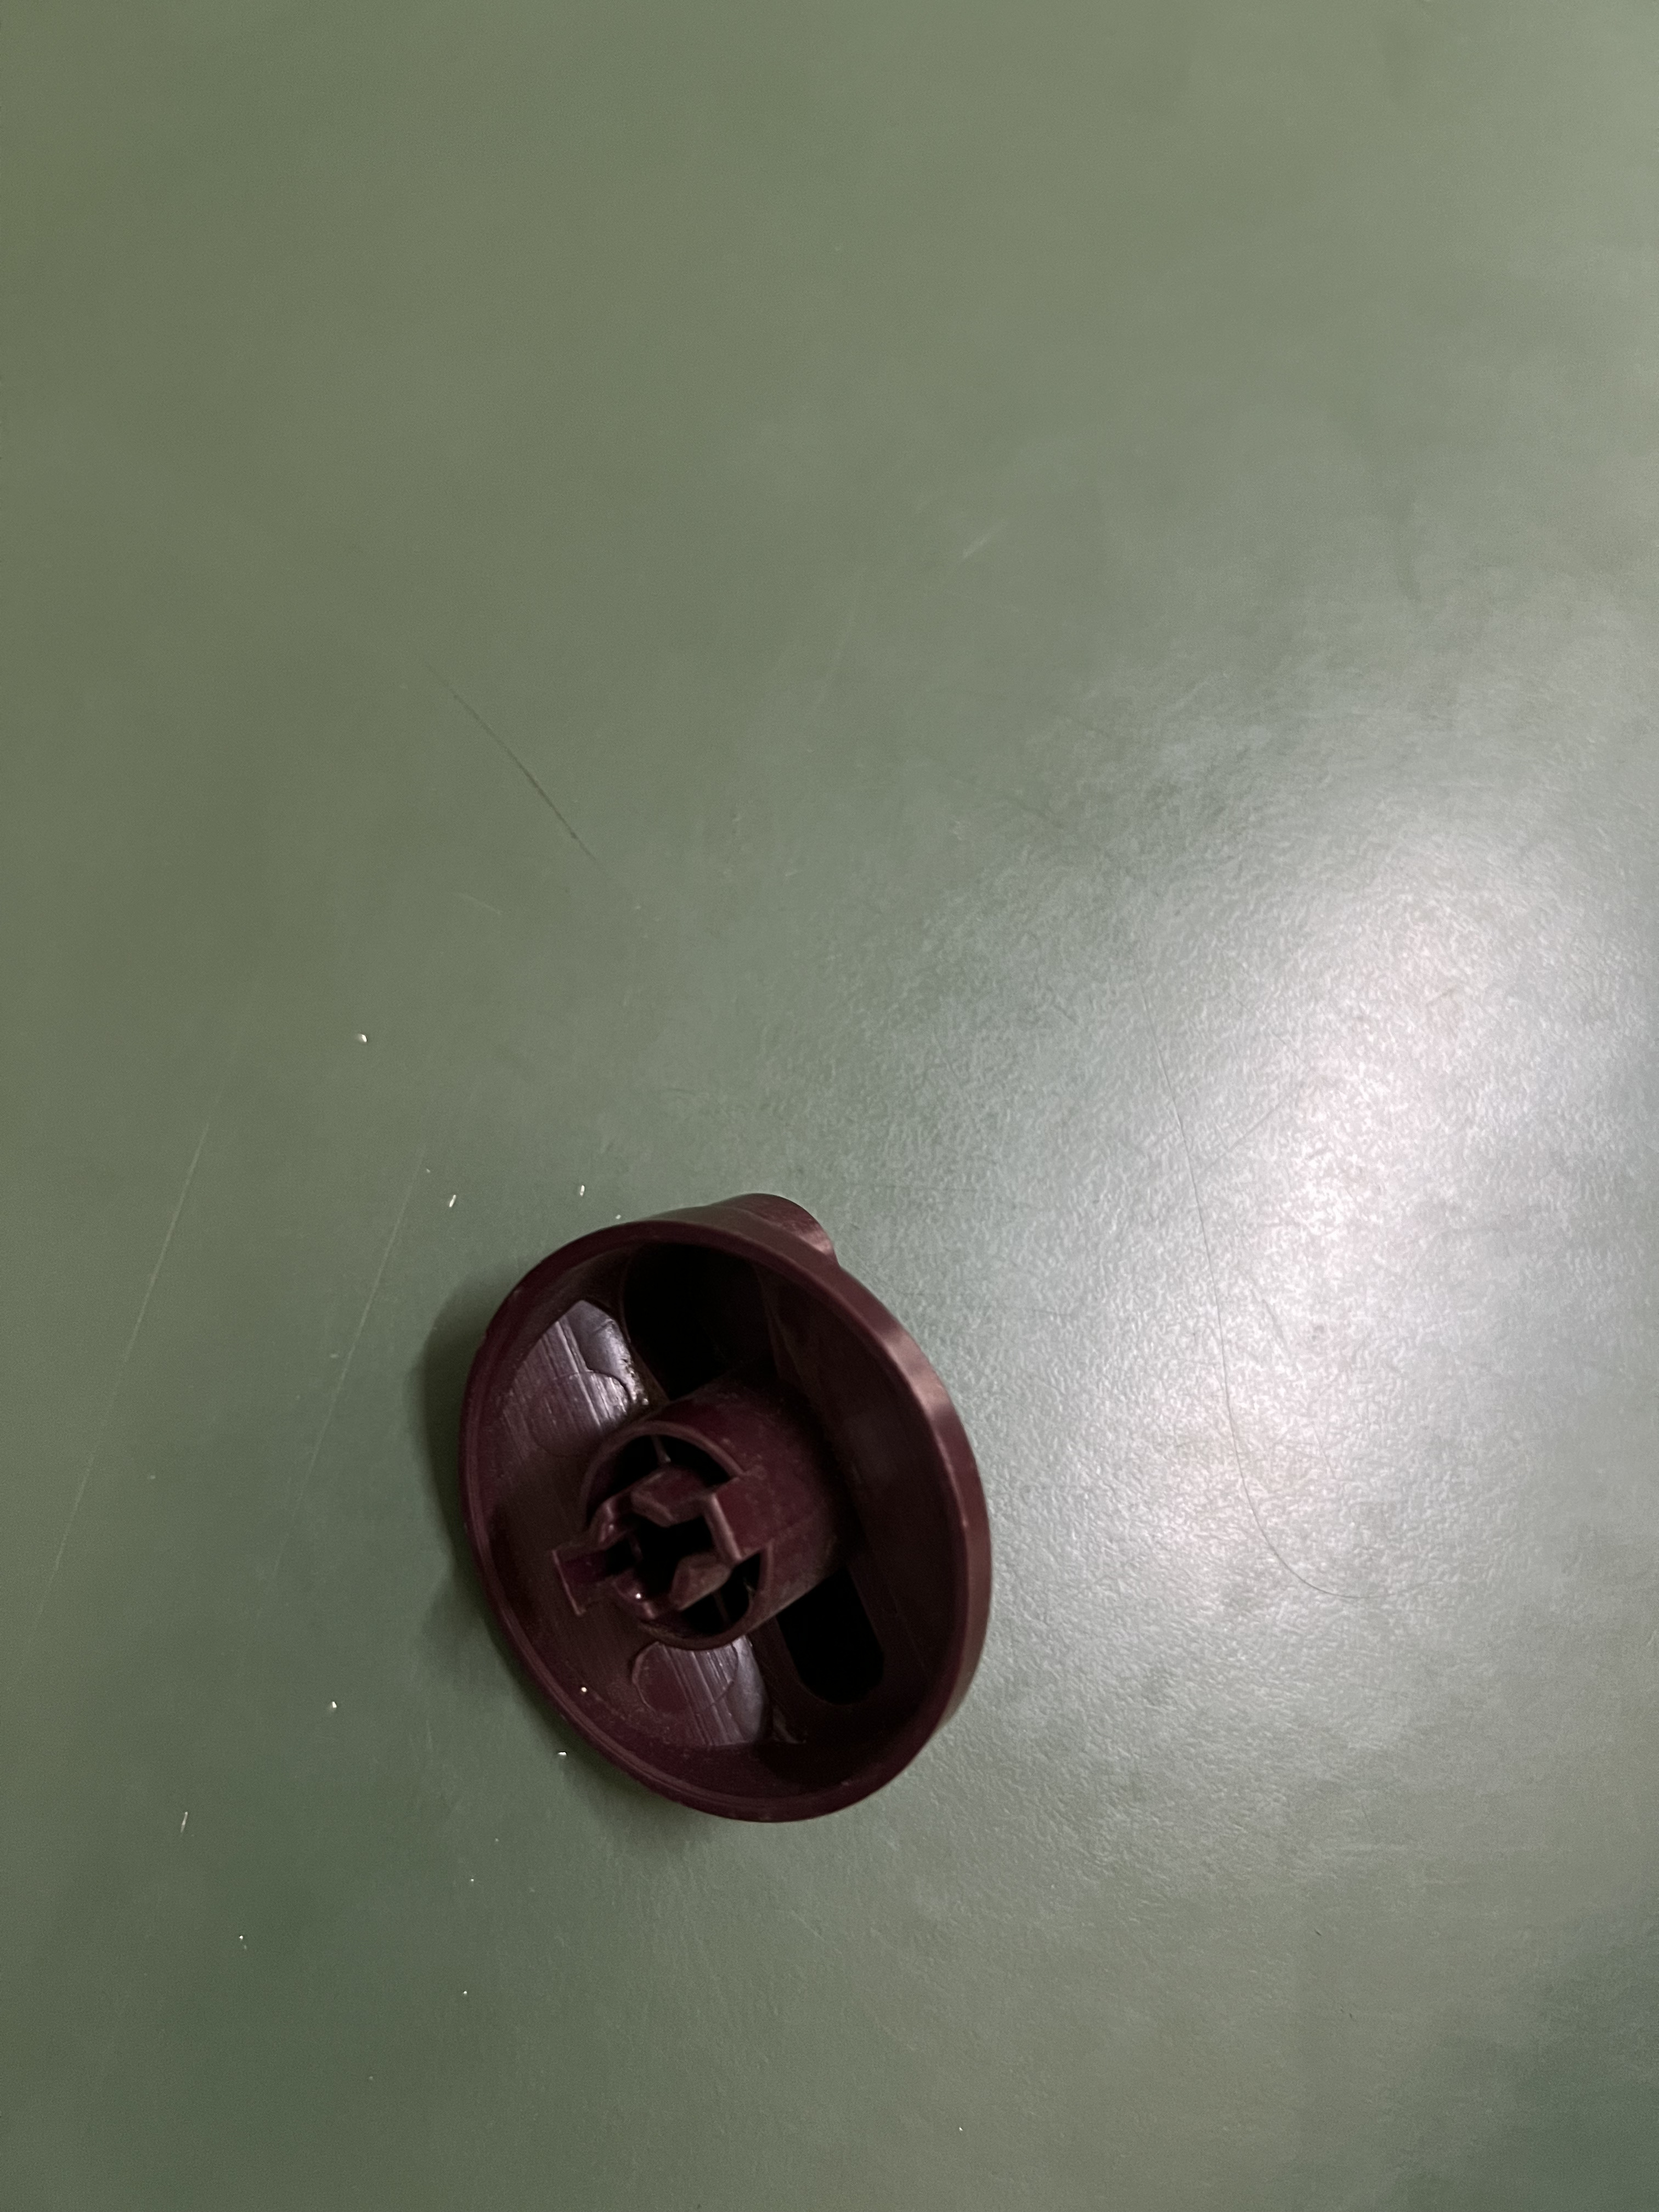regulator: (464, 1190, 1019, 1831)
